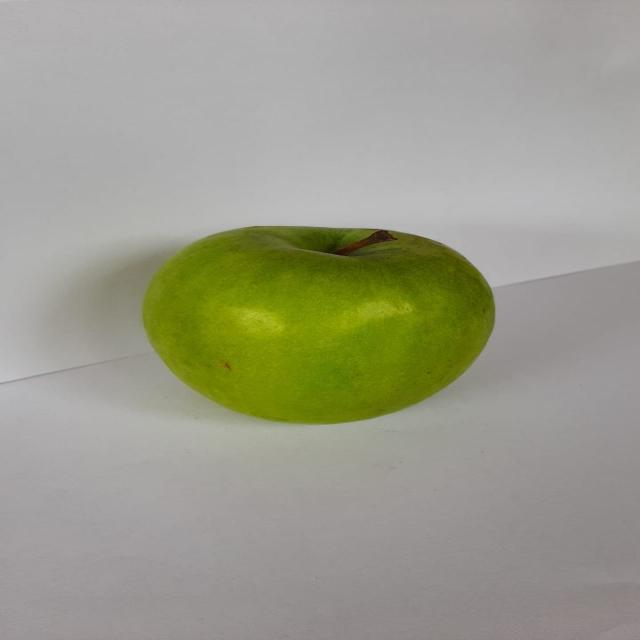50-_ripeness: (134, 214, 511, 436)
